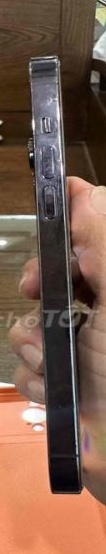scratch: (39, 122, 67, 221), (40, 83, 80, 115), (52, 399, 73, 416)
